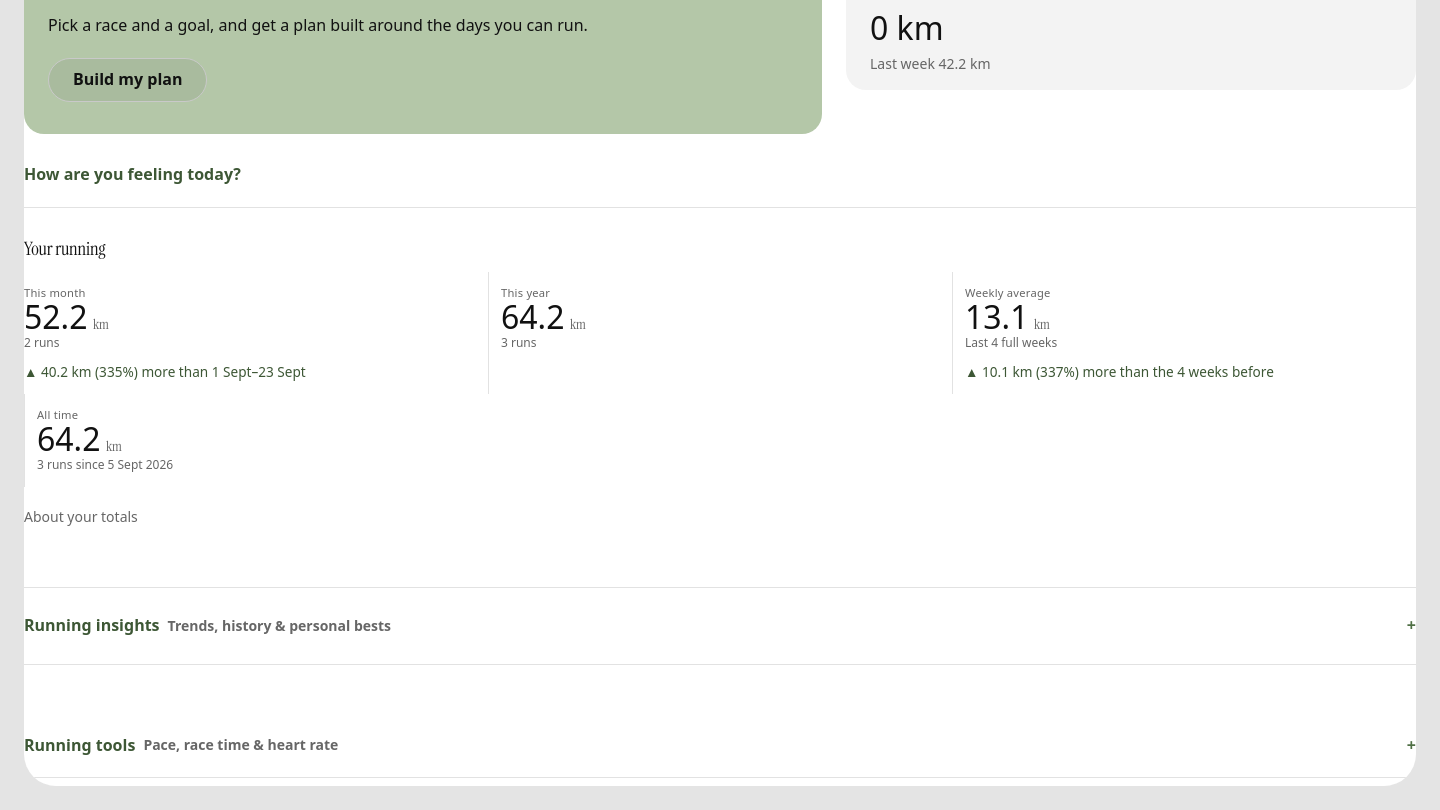
it: Home › shows their running this month, this year and week by week, from their uploads and ticked sessions
This screenshot has width=1440, height=810.
(page scrolled)
Expected: the text "52.2" is shown, [24, 295, 88, 338]
Expected: the text "64.2" is shown 2 times, [501, 295, 564, 338]; [37, 417, 100, 460]
Click the heading "Running insights" at point(208, 625), box [24, 614, 391, 636]
(page scrolled)
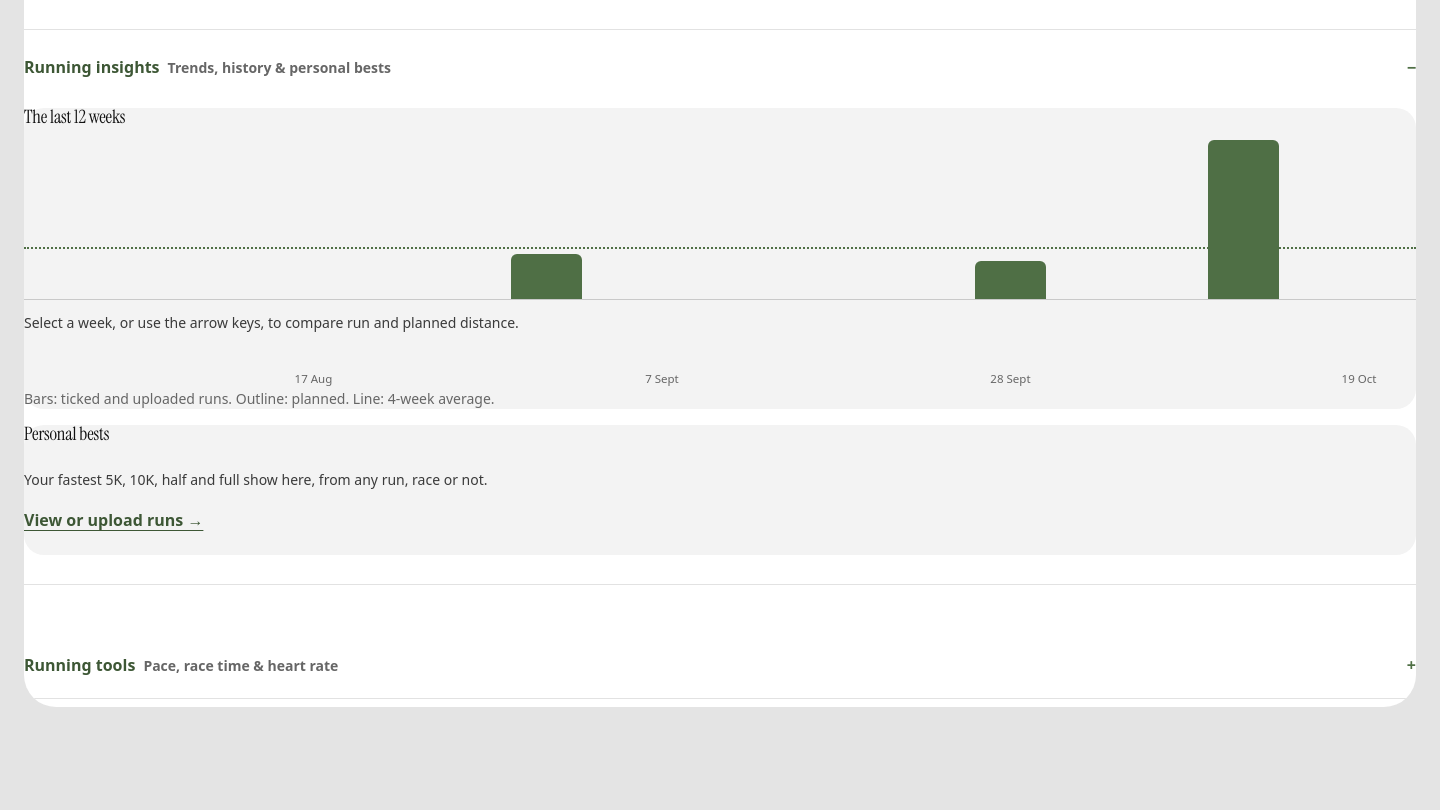
Result: the table "Weekly distance, last 12 weeks" is shown at [24, 409, 253, 707]
